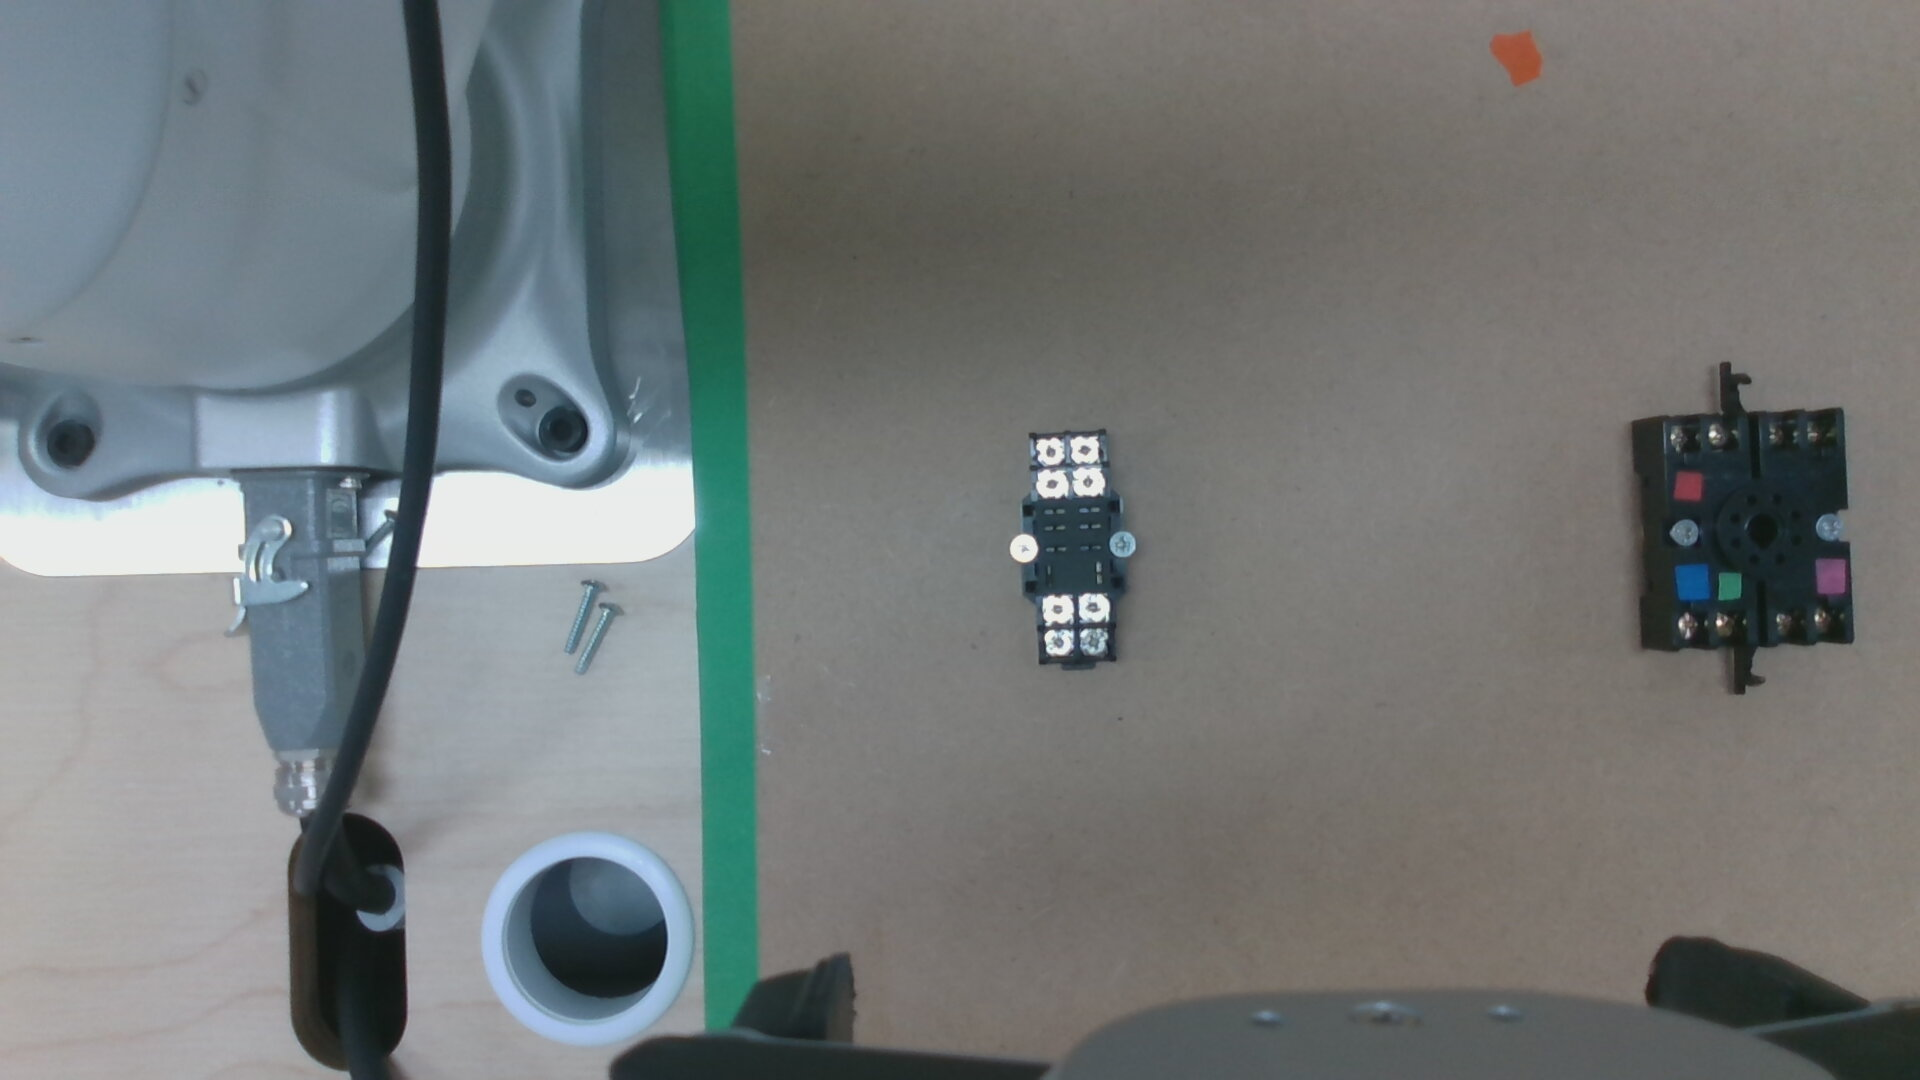relay 3: (1071, 438, 1101, 462)
relay 4: (1035, 440, 1062, 463)
relay 5: (1081, 632, 1106, 653)
relay 6: (1044, 630, 1072, 654)
relay 7: (1079, 593, 1108, 621)
relay 8: (1042, 597, 1072, 622)
